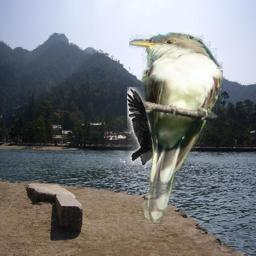Crow: (127, 87, 164, 165)
Cuckoo: (129, 32, 223, 224)
